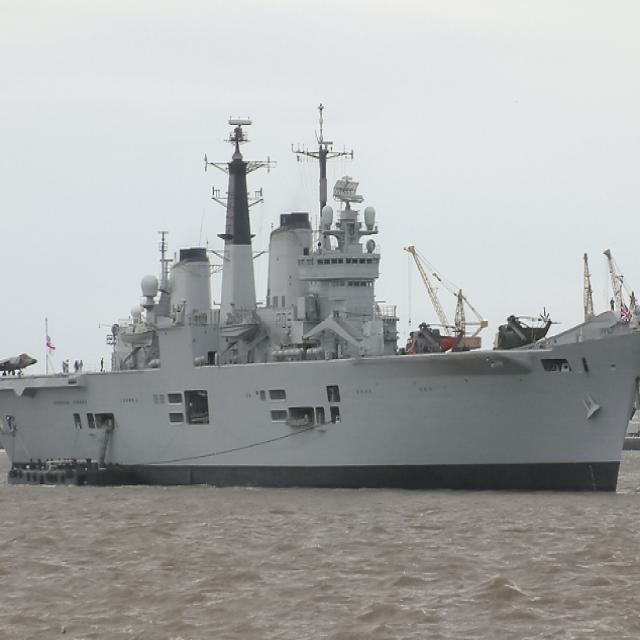Portanaves: (1, 94, 640, 504)
